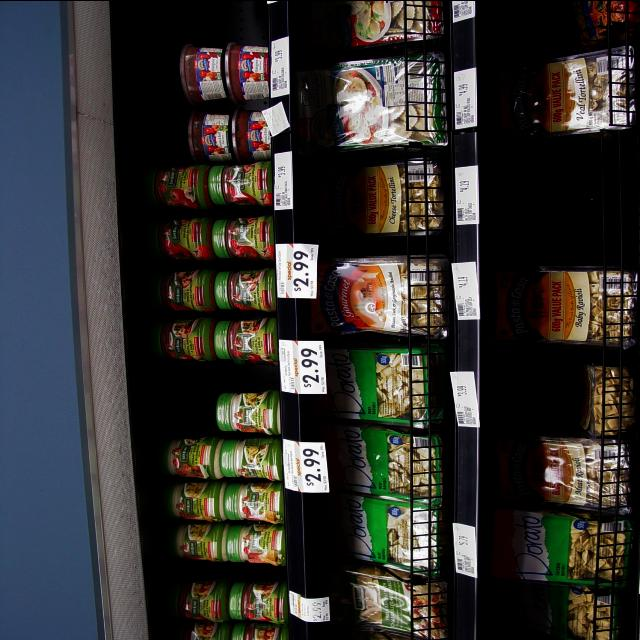empty_space: (514, 150, 626, 252), (163, 0, 263, 28)
